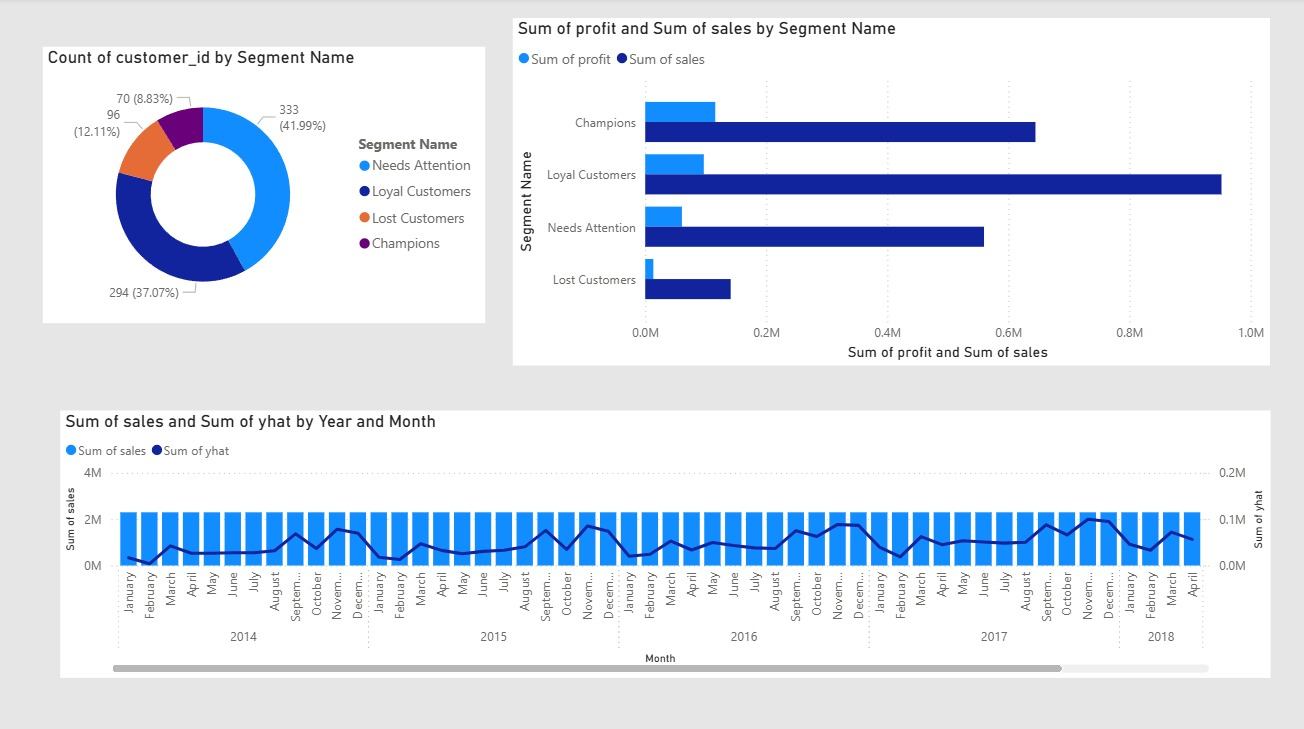

The page's visual inventory and layout, read from the dashboard file:
{"tool":"powerbi","page":{"name":"Customer Intelligence","canvas":[1280,720],"ordinal":2},"visuals":[{"type":"donutChart","fields":{"Category":["segmented_customers.Segment Name"],"Y":["Count(segmented_customers.customer_id)"]},"box":[42.8,47.7,432.9,270.2],"z":0},{"type":"clusteredBarChart","fields":{"Category":["segmented_customers.Segment Name"],"Y":["Sum(cleaned_superstore.profit)","Sum(cleaned_superstore.sales)"]},"box":[502.6,19.6,741,339.9],"z":1},{"type":"lineClusteredColumnComboChart","fields":{"Y":["Sum(cleaned_superstore.sales)"],"Y2":["Sum(sales_forecast.yhat)"],"Category":["sales_forecast.ds.Variation.Date Hierarchy.Year","sales_forecast.ds.Variation.Date Hierarchy.Month"]},"box":[59.9,403.5,1183.7,261.7],"z":2}]}

Visuals, with their boxes in screenshot pixels (x1, y1, x2, y2), scaled from the page's 1280x720 canvas onto the 1304x729 screenshot:
donutChart - segmented_customers.Segment Name x Count(segmented_customers.customer_id): box=[44, 48, 485, 322]
clusteredBarChart - segmented_customers.Segment Name x Sum(cleaned_superstore.profit): box=[512, 20, 1267, 364]
lineClusteredColumnComboChart - Sum(cleaned_superstore.sales) x Sum(sales_forecast.yhat): box=[61, 409, 1267, 674]
